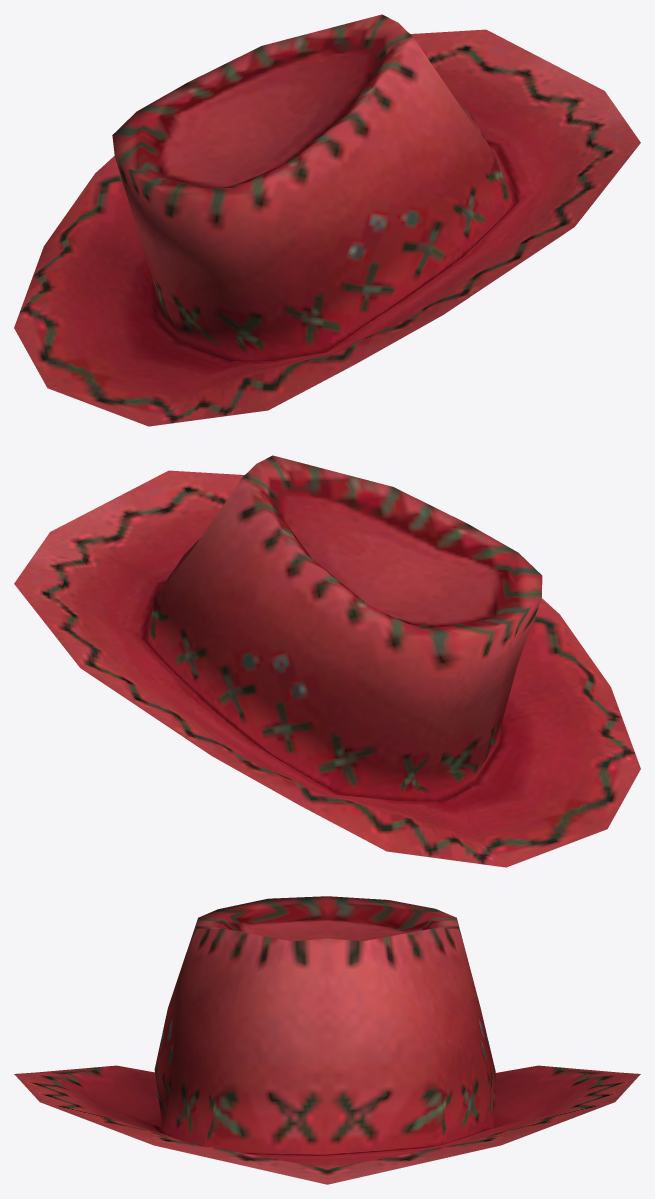
File: hat_0400002.FBX
3 renders of one model, top to bottom at view 1: azimuth 30°, elevation 25°; view 2: azimuth 150°, elevation 25°; view 3: azimuth 270°, elevation 25°, orthographic. The views are drawn at different scales.
Visible parts, largest first — view 1: hat_0400002; view 2: hat_0400002; view 3: hat_0400002.
Boxes of the visible parts, x1=… form: hat_0400002: x1=14, y1=14, x2=640, y2=426; hat_0400002: x1=14, y1=455, x2=640, y2=867; hat_0400002: x1=14, y1=896, x2=640, y2=1184.
Bounding box in the file's own units: 51.41 × 24.65 × 44.6.
